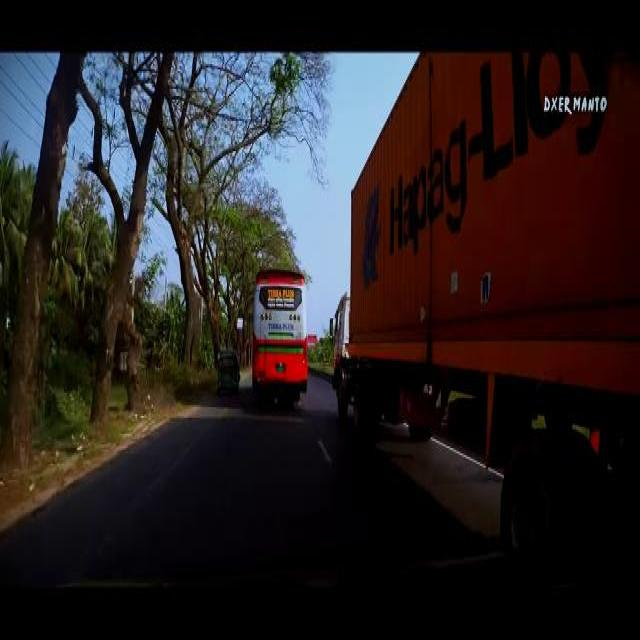17: (213, 346, 243, 401)
18: (327, 51, 639, 586)
Truck: (248, 265, 310, 411)
